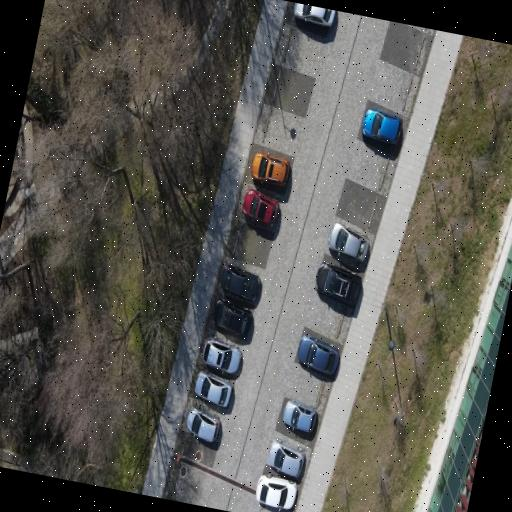person: (316, 262, 362, 307), (298, 334, 339, 374), (221, 265, 260, 305), (329, 222, 369, 261), (213, 299, 252, 337), (256, 473, 297, 509), (268, 439, 305, 476), (203, 337, 242, 372), (195, 370, 232, 406), (362, 109, 402, 142), (243, 189, 279, 224), (252, 152, 289, 185), (187, 407, 220, 441), (284, 399, 316, 431), (295, 3, 335, 25)
